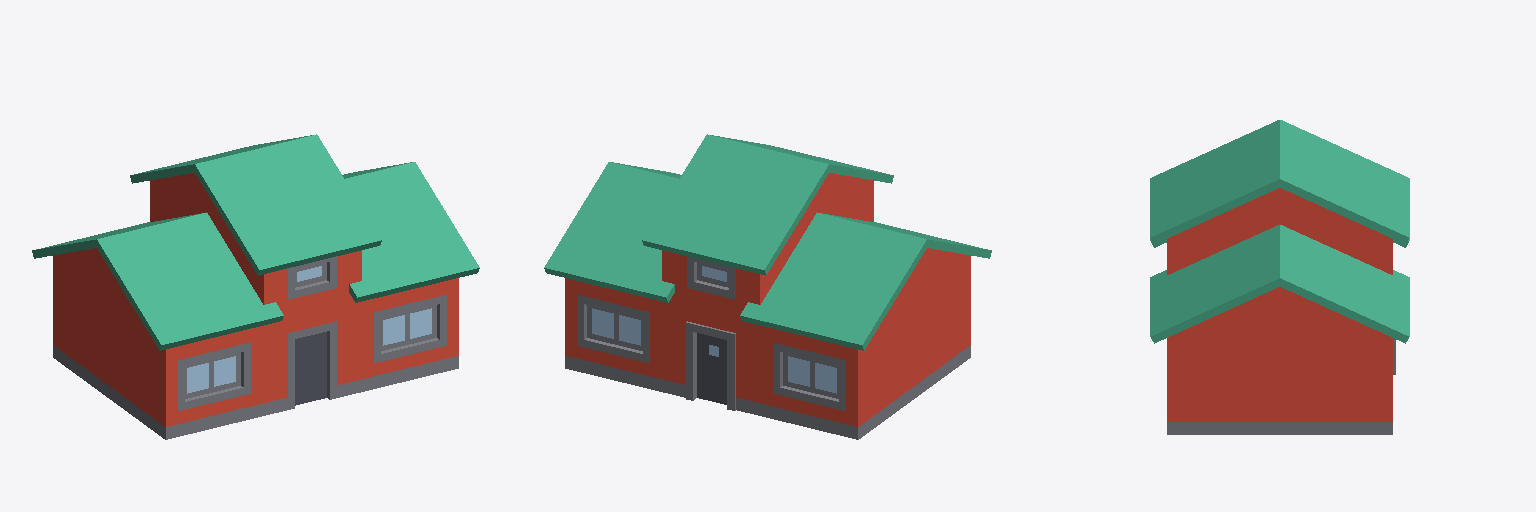
File: house_type09.obj
3 views of the same model, side by side, from view 1: azimuth 30°, elevation 25°; view 2: azimuth 150°, elevation 25°; view 3: azimuth 270°, elevation 25° (orthographic).
Parts seen in each view (by area): view 1: house_type09; view 2: house_type09; view 3: house_type09.
Part boxes in pixels (x1,y1,x2,y2): house_type09: (32,134,479,439); house_type09: (544,134,991,439); house_type09: (1150,120,1409,434).
Bounding box in the file's own units: 1.3 × 0.8335 × 0.9163.